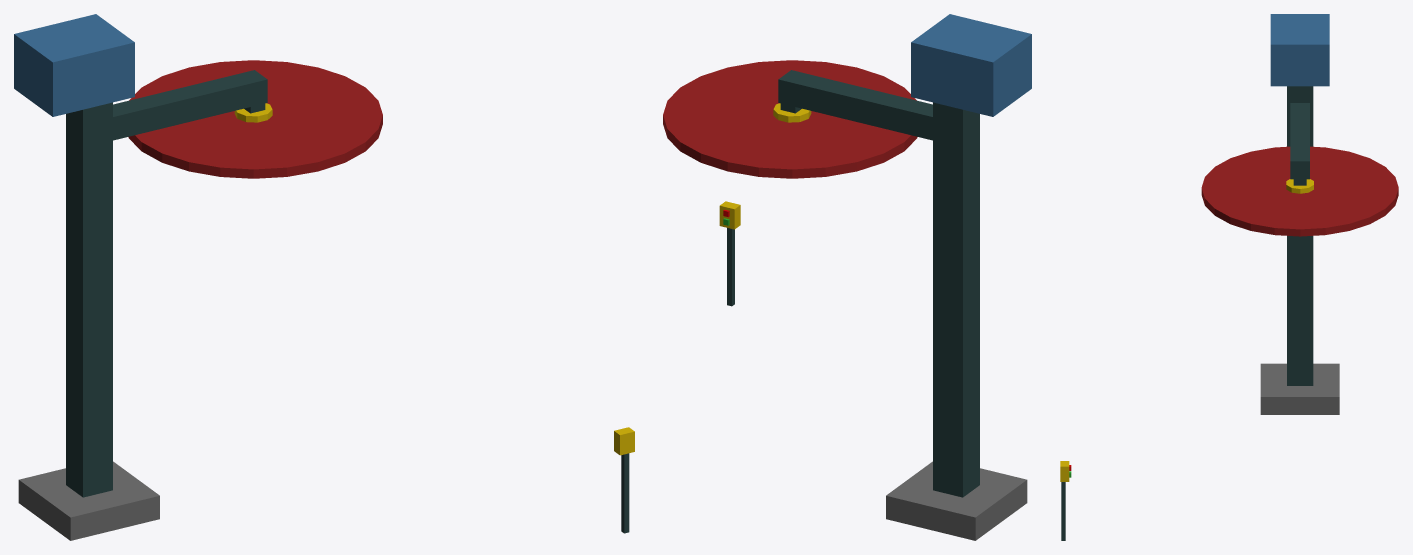
The model's file is tbar_base.obj.
The picture shows the model from 3 angles, left to right: view 1: azimuth 30°, elevation 25°; view 2: azimuth 150°, elevation 25°; view 3: azimuth 270°, elevation 25°; orthographic projection. The views are drawn at different scales.
Bounding box in the file's own units: 5.95 × 6.1 × 5.15.
